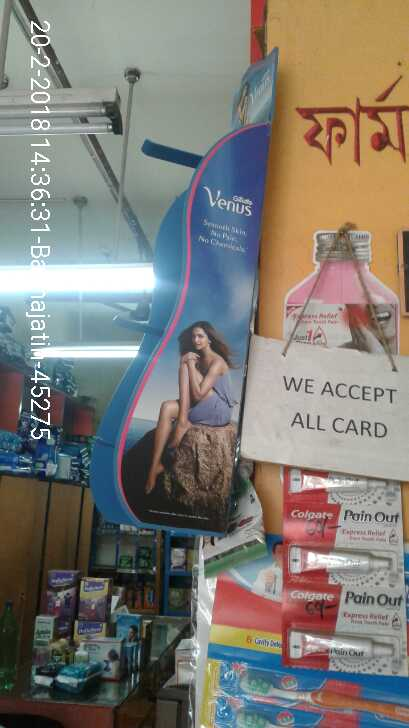reject: (156, 488, 219, 625)
